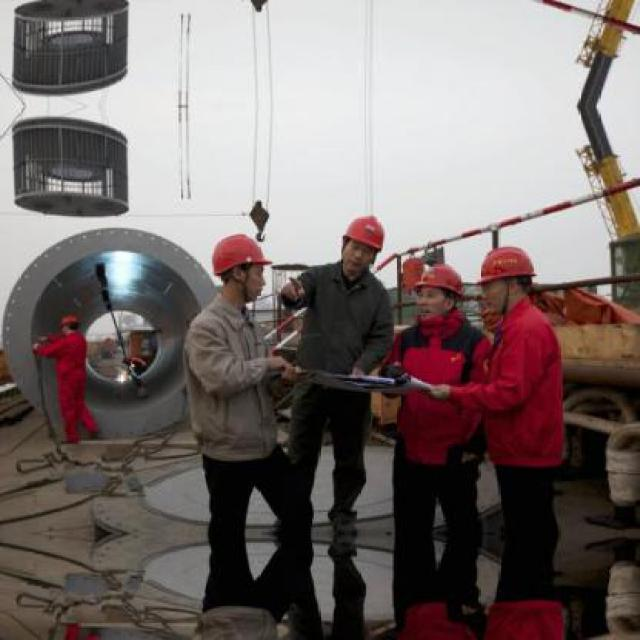helmet: (206, 227, 274, 305), (473, 239, 539, 318), (337, 208, 386, 276), (411, 260, 466, 318), (55, 311, 80, 335)
